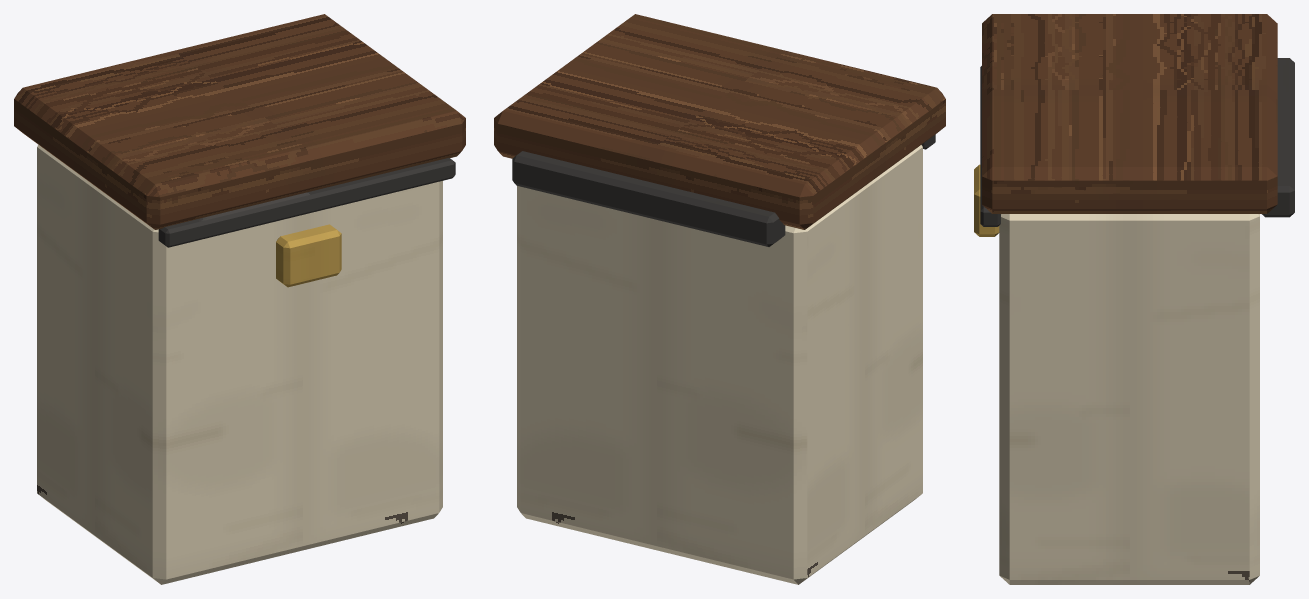
File: milk_box.glb
The picture shows the model from 3 angles, left to right: view 1: azimuth 30°, elevation 25°; view 2: azimuth 150°, elevation 25°; view 3: azimuth 270°, elevation 25°; orthographic projection. The views are drawn at different scales.
Parts seen in each view (by area): view 1: p; view 2: p; view 3: p.
Boxes of the visible parts, x1,y1,x2,y2 form: p: (14,14,465,584); p: (494,14,945,584); p: (974,14,1294,584).
Size of the model in its own units: 0.22 by 0.27 by 0.1845.
Materials: 4 (4 with a texture image).
